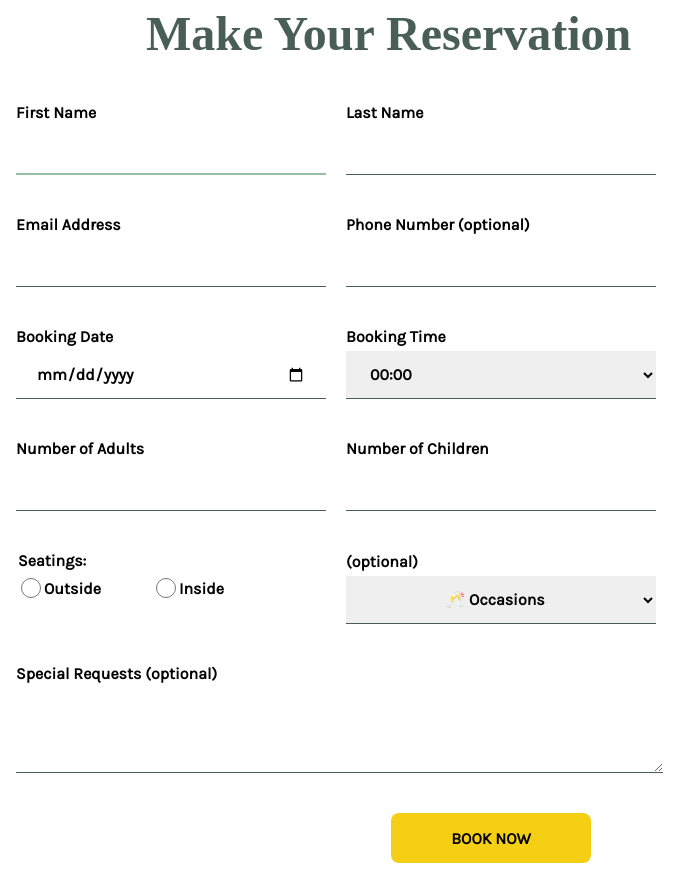
it: Booking Form › should show required message for first name input with empty value when the form is submitted
Step 1. Click the button "BOOK NOW" → {"x": 491, "y": 838}, box 391,813 -> 591,863
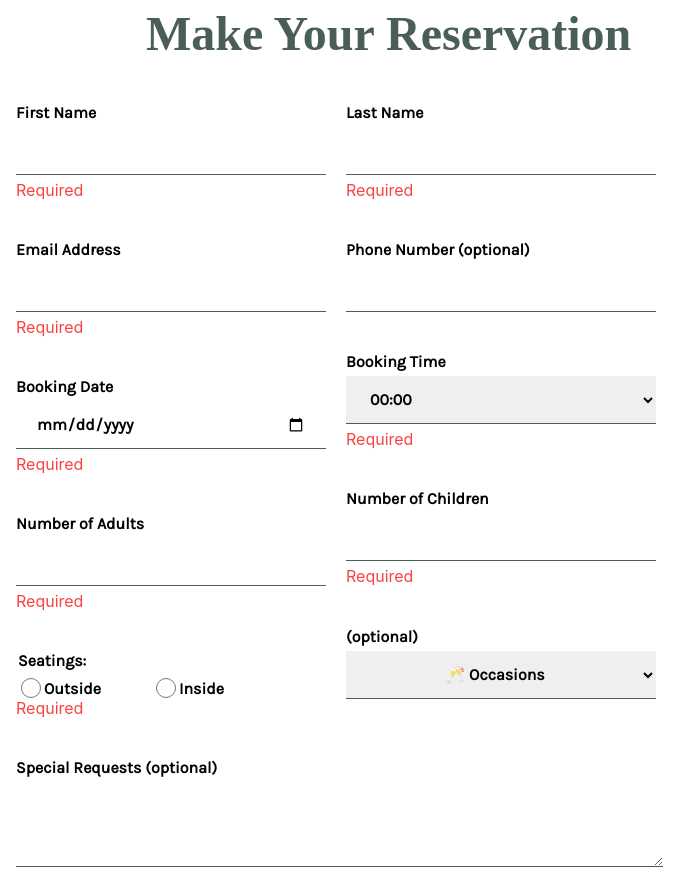
Result: the text with id "firstName-error" reads "Required" at 16,180 -> 83,200
